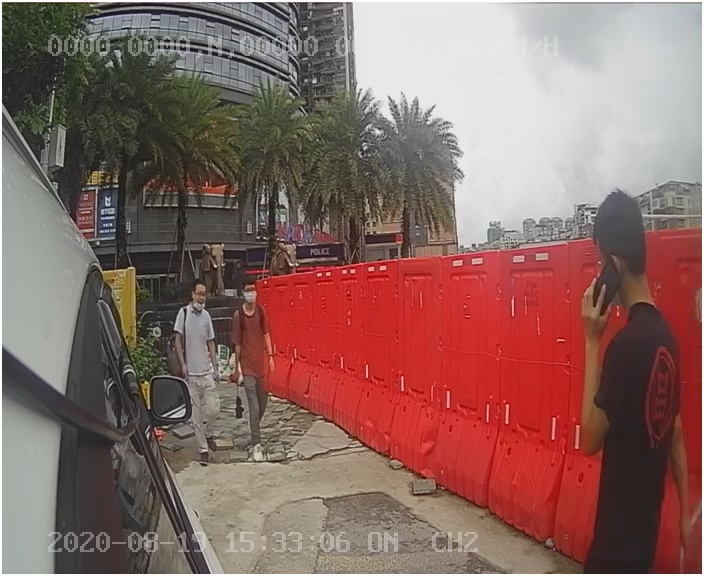person: (224, 283, 303, 472)
